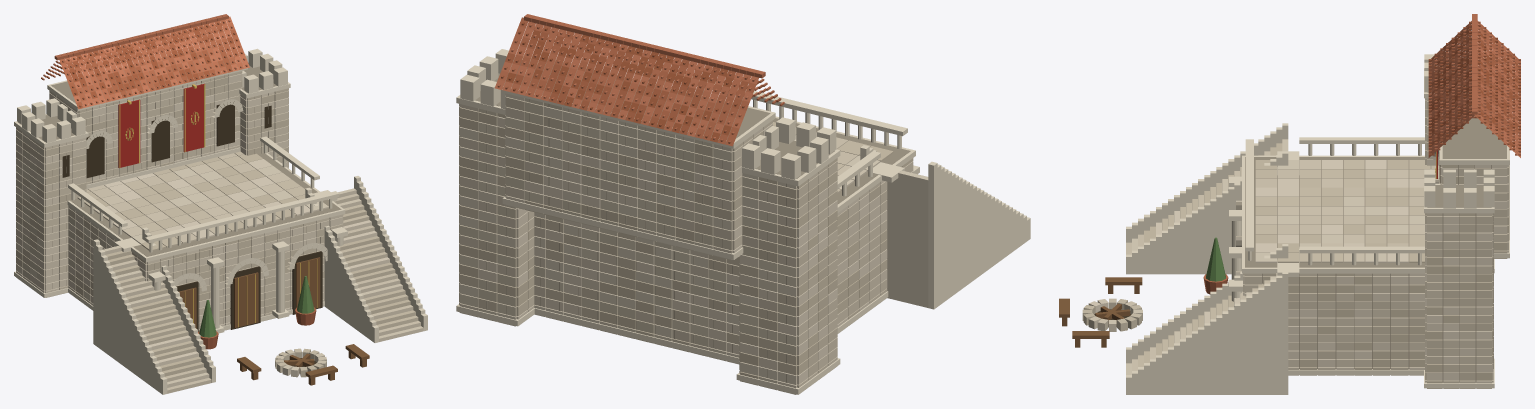
3 renders of one model, left to right at view 1: azimuth 30°, elevation 25°; view 2: azimuth 150°, elevation 25°; view 3: azimuth 270°, elevation 25°, orthographic. The views are drawn at different scales.
Visible parts, largest first — view 1: Bergfried – Steine, Säulen, Ziegel und Feuerstelle; view 2: Bergfried – Steine, Säulen, Ziegel und Feuerstelle; view 3: Bergfried – Steine, Säulen, Ziegel und Feuerstelle.
Part boxes in pixels (<box>): Bergfried – Steine, Säulen, Ziegel und Feuerstelle: <box>14,14,427,394</box>; Bergfried – Steine, Säulen, Ziegel und Feuerstelle: <box>456,14,1030,394</box>; Bergfried – Steine, Säulen, Ziegel und Feuerstelle: <box>1059,14,1520,394</box>.
Bounding box in the file's own units: 1626 × 1280 × 2105.
